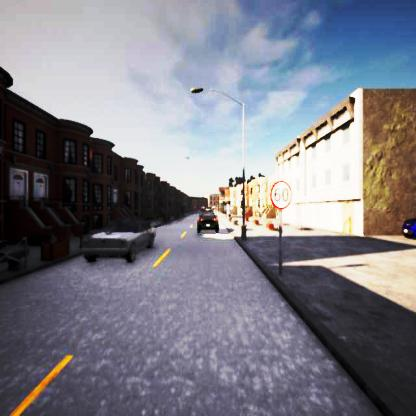vehicle: (81, 216, 153, 262), (197, 211, 218, 233), (402, 218, 416, 240)
